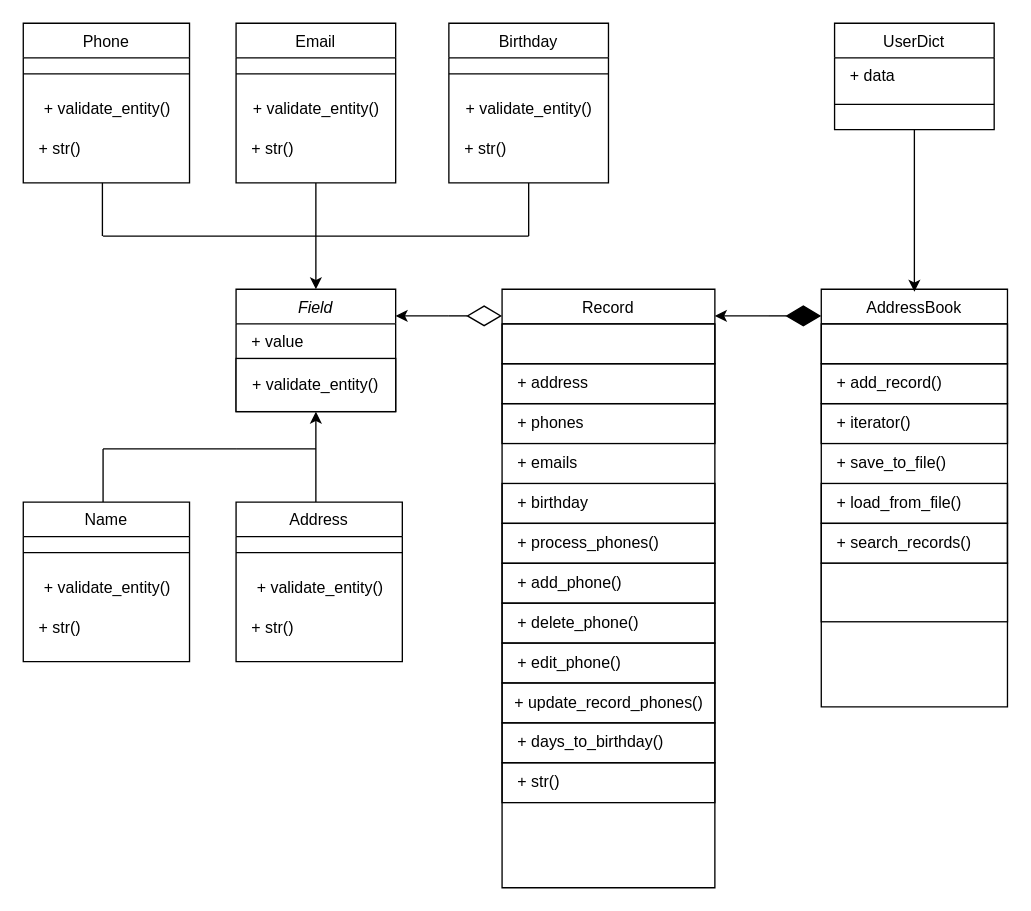
Image size: 1031x911. Some labels were removed from this diagram. The shapes that lost their labels are listed below. From the top down, each one's centre as x and y in pixels, then its label:
the point at 608,343: + name
the point at 913,592: + get_upcoming_ birthday_contacts()
